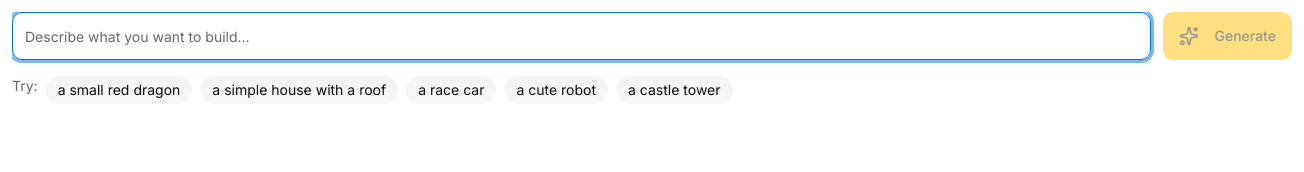
PromptInput › fills input when example prompt is clicked
The image size is (1304, 172).
Click the button "a small red dragon" at (119, 90), box [46,76,192,104]
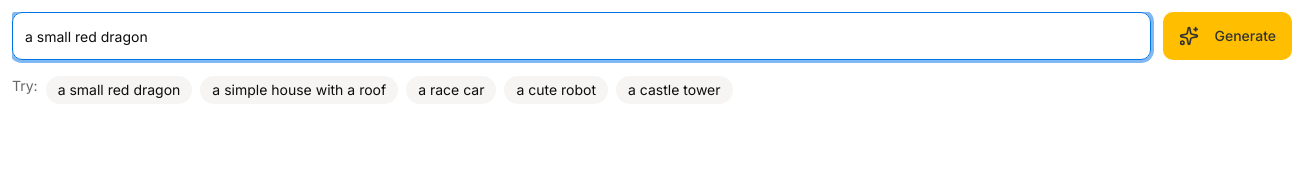
Expected: the field with placeholder "Describe what you want to build..." holds "a small red dragon", [12,12,1150,60]
